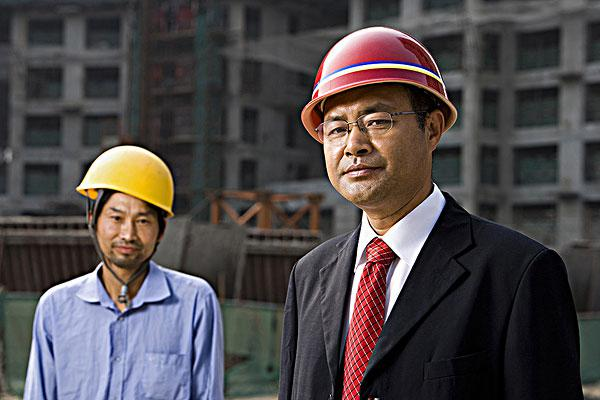helmet: (289, 14, 475, 223), (56, 121, 192, 286)
